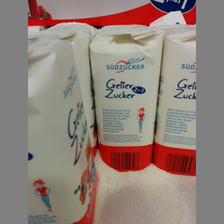tomato_sauce: (89, 24, 163, 173), (156, 26, 196, 176)
